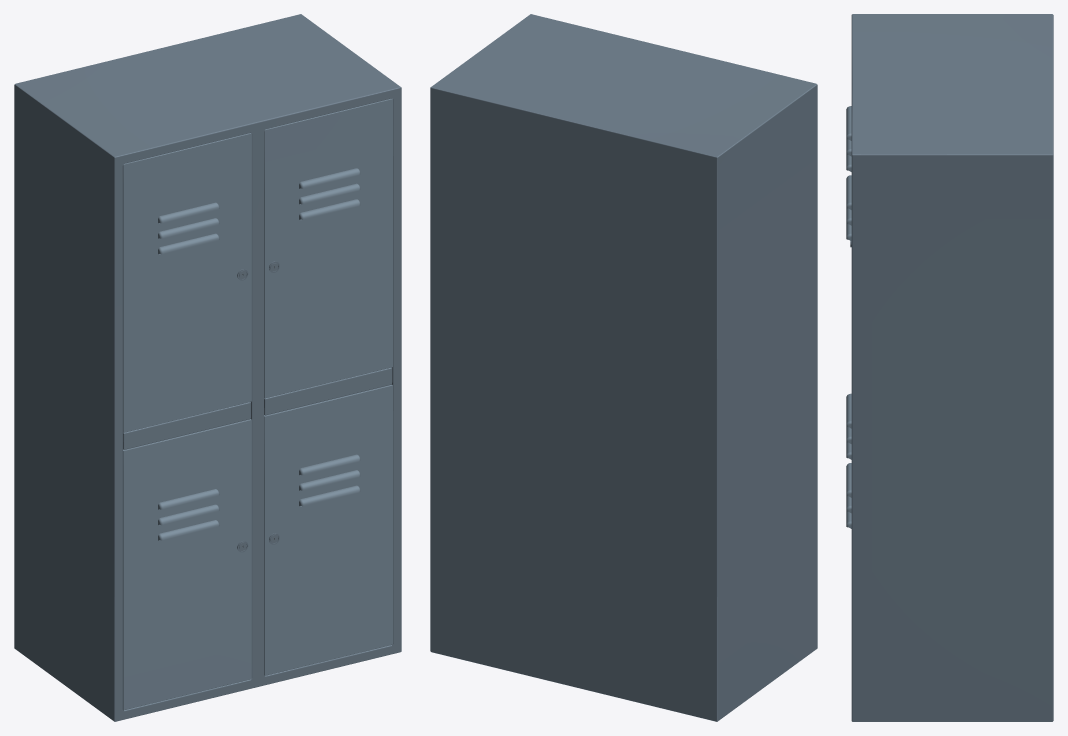
The model's file is SM_Locker_Open_V3.fbx.
3 renders of one model, left to right at view 1: azimuth 30°, elevation 25°; view 2: azimuth 150°, elevation 25°; view 3: azimuth 270°, elevation 25°, orthographic.
Parts seen in each view (by area): view 1: SM_Locker_Open_V3, SM_Locker_DoorTR_V3, SM_Locker_DoorTL_V3, SM_Locker_DoorBL_V3, SM_Locker_DoorBR_V3; view 2: SM_Locker_Open_V3; view 3: SM_Locker_Open_V3, SM_Locker_DoorTR_V3, SM_Locker_DoorBL_V3, SM_Locker_DoorBR_V3, SM_Locker_DoorTL_V3.
Part boxes in pixels (<box>): SM_Locker_Open_V3: <box>14,14,401,721</box>; SM_Locker_DoorTR_V3: <box>264,98,392,398</box>; SM_Locker_DoorTL_V3: <box>123,133,251,432</box>; SM_Locker_DoorBL_V3: <box>123,419,251,710</box>; SM_Locker_DoorBR_V3: <box>264,384,392,675</box>; SM_Locker_Open_V3: <box>430,14,817,721</box>; SM_Locker_Open_V3: <box>851,14,1053,721</box>; SM_Locker_DoorTR_V3: <box>846,175,851,247</box>; SM_Locker_DoorBL_V3: <box>846,393,851,459</box>; SM_Locker_DoorBR_V3: <box>846,463,851,528</box>; SM_Locker_DoorTL_V3: <box>846,106,851,171</box>.
Bounding box in the file's own units: 115 × 215 × 71.27.
